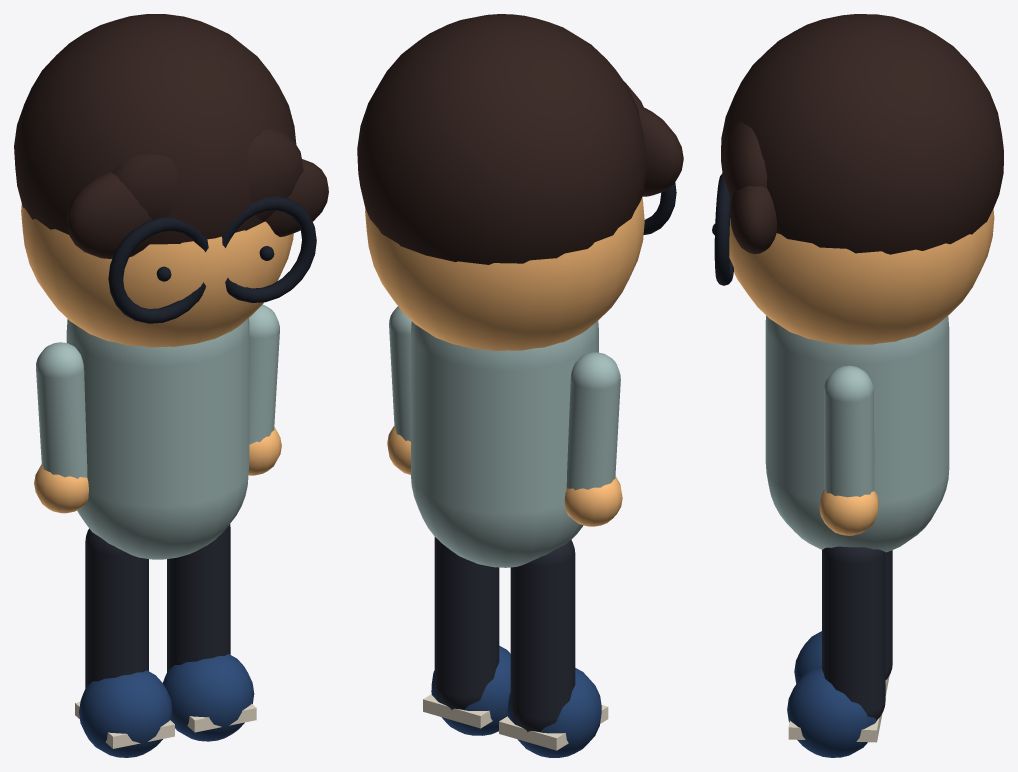
File: taisei-guide.glb
3 views of the same model, side by side, from view 1: azimuth 30°, elevation 25°; view 2: azimuth 150°, elevation 25°; view 3: azimuth 270°, elevation 25° (orthographic). The views are drawn at different scales.
Parts seen in each view (by area): view 1: HairCap, Torso, Face, HairCurl (×4), LeftLegMesh, RightLegMesh, GlassesFrame (×2), LeftArmMesh, LeftShoe, RightShoe, RightArmMesh, LeftHand (+3 smaller); view 2: HairCap, Torso, Face, LeftLegMesh, RightLegMesh, LeftArmMesh, LeftShoe, HairCurl, RightArmMesh, RightShoe, LeftHand, LeftSole (+3 smaller); view 3: HairCap, Torso, Face, RightLegMesh, RightArmMesh, HairCurl (×2), RightShoe, RightHand, GlassesFrame, LeftLegMesh, LeftShoe, RightSole.
Part boxes in pixels (x1=…): HairCap: x1=14, y1=14, x2=296, y2=244; Torso: x1=66, y1=318, x2=249, y2=559; Face: x1=21, y1=203, x2=293, y2=347; HairCurl (×4): x1=66, y1=128, x2=328, y2=258; LeftLegMesh: x1=85, y1=528, x2=148, y2=688; RightLegMesh: x1=167, y1=524, x2=230, y2=671; GlassesFrame (×2): x1=108, y1=196, x2=316, y2=323; LeftArmMesh: x1=36, y1=342, x2=87, y2=478; LeftShoe: x1=79, y1=670, x2=172, y2=757; RightShoe: x1=163, y1=654, x2=254, y2=741; RightArmMesh: x1=249, y1=304, x2=279, y2=444; LeftHand: x1=34, y1=464, x2=88, y2=513; HairCap: x1=357, y1=14, x2=646, y2=264; Torso: x1=411, y1=321, x2=598, y2=567; Face: x1=365, y1=197, x2=644, y2=350; LeftLegMesh: x1=510, y1=539, x2=575, y2=731; RightLegMesh: x1=434, y1=537, x2=499, y2=709; LeftArmMesh: x1=566, y1=352, x2=620, y2=490; LeftShoe: x1=507, y1=668, x2=601, y2=757; HairCurl: x1=638, y1=107, x2=683, y2=196; RightArmMesh: x1=389, y1=306, x2=411, y2=441; RightShoe: x1=431, y1=645, x2=510, y2=735; LeftHand: x1=564, y1=476, x2=622, y2=526; LeftSole: x1=499, y1=705, x2=608, y2=750; HairCap: x1=721, y1=14, x2=1003, y2=254; Torso: x1=765, y1=315, x2=949, y2=552; Face: x1=729, y1=209, x2=994, y2=344; RightLegMesh: x1=822, y1=546, x2=885, y2=720; RightArmMesh: x1=824, y1=365, x2=874, y2=497; HairCurl (×2): x1=723, y1=122, x2=776, y2=254; RightShoe: x1=787, y1=666, x2=879, y2=757; RightHand: x1=819, y1=490, x2=878, y2=535; GlassesFrame: x1=714, y1=172, x2=733, y2=285; LeftLegMesh: x1=885, y1=550, x2=892, y2=679; LeftShoe: x1=794, y1=631, x2=821, y2=683; RightSole: x1=788, y1=714, x2=882, y2=742.
Bounding box in the file's own units: 1.44 × 3.83 × 1.43.
